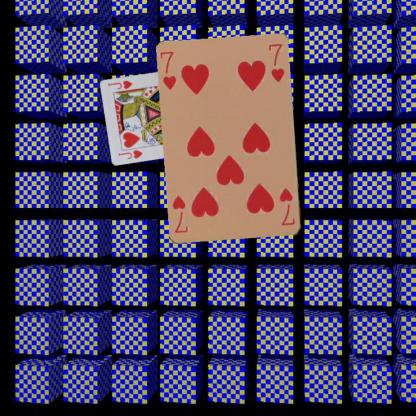7h: (158, 49, 178, 92), (277, 186, 296, 227)
Jh: (115, 147, 144, 160)
